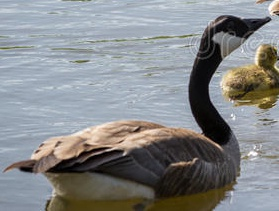goose: (3, 8, 273, 206)
